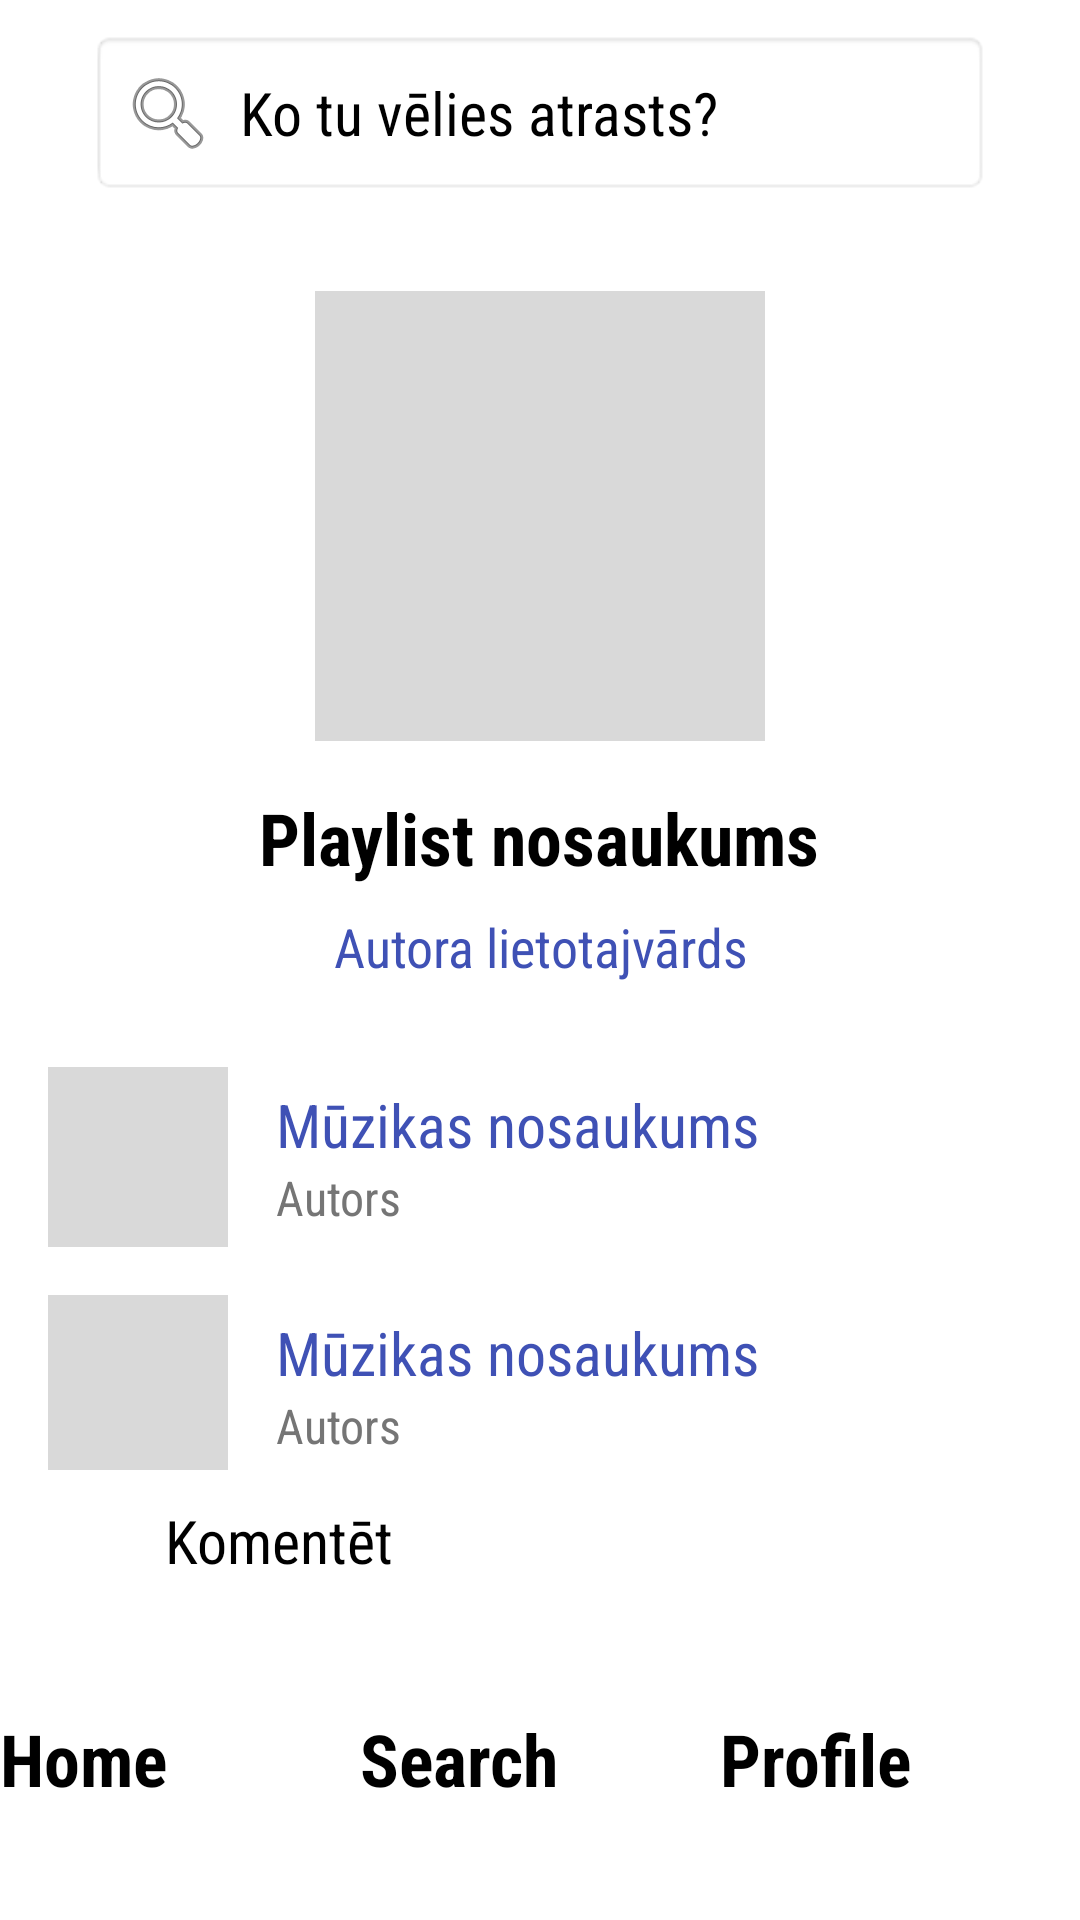

Screen size 1080w x 1920h. Icon name, then its center in pixels as [x,y]:
search: [168,113]
